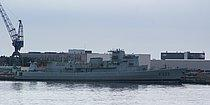MIL_Ship: (14, 50, 189, 84)
